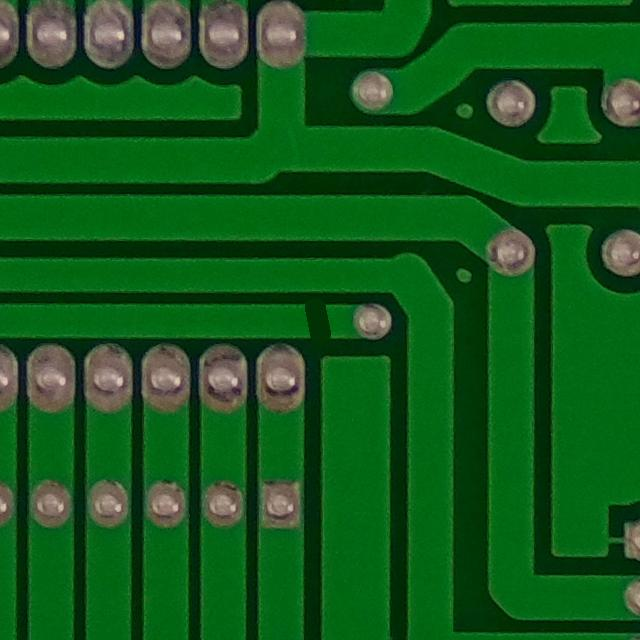open_circuit: (292, 295, 348, 346)
